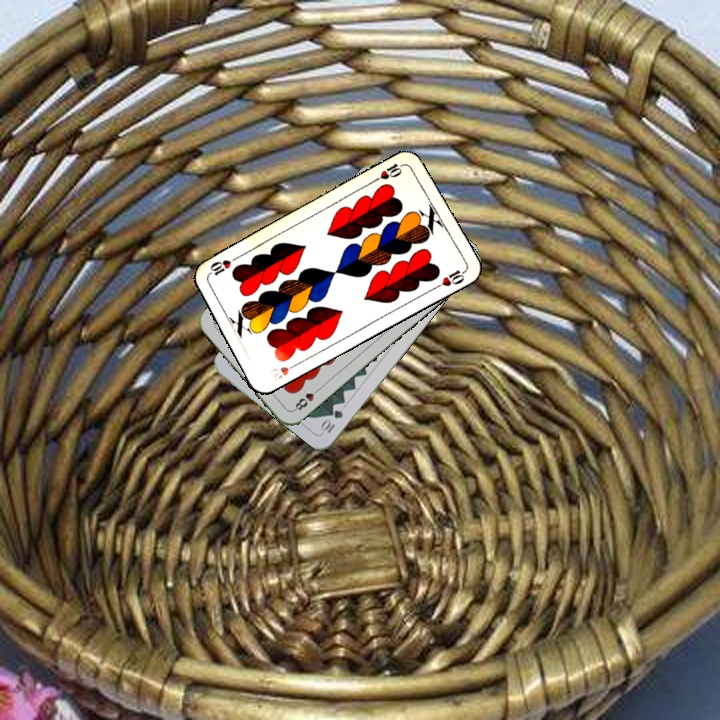G10: (316, 406, 346, 436)
H10: (370, 159, 407, 184), (266, 358, 301, 382)
H8: (289, 383, 323, 414)
